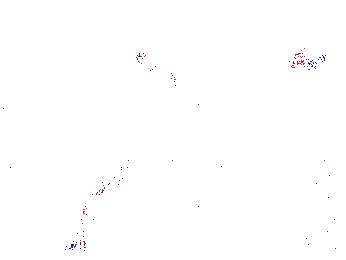X-ray fish: (213, 167, 237, 213)
glassfish: (73, 158, 136, 248), (192, 133, 269, 197)
red belly glassfish: (292, 49, 328, 68)
redtail glassfish: (133, 50, 182, 90)
